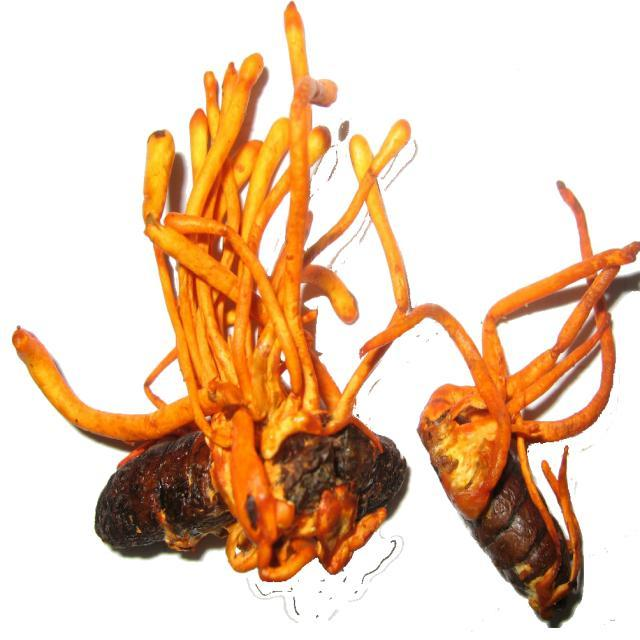Cordyceps militaris: (14, 2, 415, 556), (362, 178, 631, 626)
